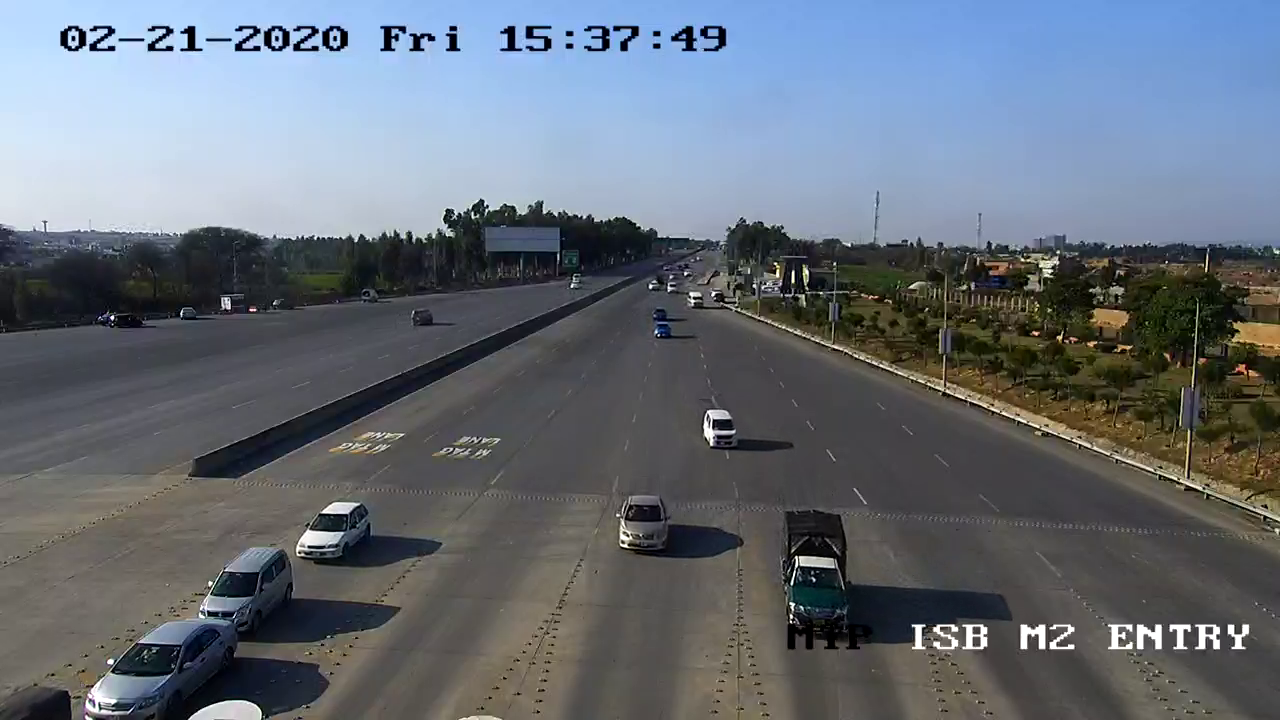f1: (65, 615, 255, 712), (177, 540, 312, 637), (291, 488, 385, 571), (608, 486, 677, 558), (696, 403, 745, 458)
